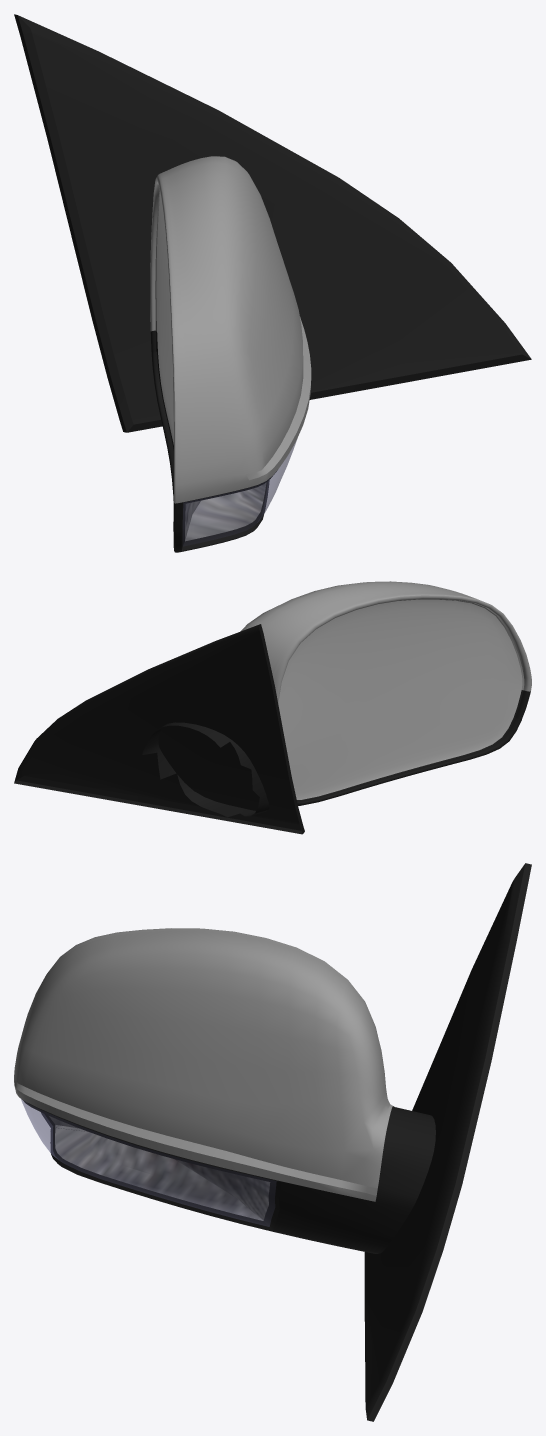
The picture shows the model from 3 angles, top to bottom: view 1: azimuth 30°, elevation 25°; view 2: azimuth 150°, elevation 25°; view 3: azimuth 270°, elevation 25°; orthographic projection. The views are drawn at different scales.
Visible parts, largest first — view 1: X6164_20_281I_R_X6164_20_281I_R_4_D, X6164_20_281I_R_3_DaS_X6164_20_281I_R, X6164_20_281I_R_X6164_20_281I_R_2_DTaSI, X6164_20_281I_R_X6164_20_281I_R_1_N, X6164_20_281I_R_X6164_20_281I_R_5_DTaSI, X6164_20_281I_R_3_DaS_X6164_20_281I_R_E; view 2: X6164_20_281I_R_X6164_20_281I_R_4_D, X6164_20_281I_R_X6164_20_281I_R_5_DTaSI, X6164_20_281I_R_3_DaS_X6164_20_281I_R; view 3: X6164_20_281I_R_3_DaS_X6164_20_281I_R, X6164_20_281I_R_X6164_20_281I_R_4_D, X6164_20_281I_R_X6164_20_281I_R_2_DTaSI, X6164_20_281I_R_X6164_20_281I_R_1_N, X6164_20_281I_R_3_DaS_X6164_20_281I_R_E.
Boxes of the visible parts, <box> form: X6164_20_281I_R_X6164_20_281I_R_4_D: <box>14,14,531,552</box>; X6164_20_281I_R_3_DaS_X6164_20_281I_R: <box>150,156,310,503</box>; X6164_20_281I_R_X6164_20_281I_R_2_DTaSI: <box>183,440,296,546</box>; X6164_20_281I_R_X6164_20_281I_R_1_N: <box>185,483,266,541</box>; X6164_20_281I_R_X6164_20_281I_R_5_DTaSI: <box>156,193,173,444</box>; X6164_20_281I_R_3_DaS_X6164_20_281I_R_E: <box>246,317,311,480</box>; X6164_20_281I_R_X6164_20_281I_R_4_D: <box>14,624,530,834</box>; X6164_20_281I_R_X6164_20_281I_R_5_DTaSI: <box>278,599,522,799</box>; X6164_20_281I_R_3_DaS_X6164_20_281I_R: <box>240,581,531,702</box>; X6164_20_281I_R_3_DaS_X6164_20_281I_R: <box>14,928,392,1201</box>; X6164_20_281I_R_X6164_20_281I_R_4_D: <box>22,863,531,1421</box>; X6164_20_281I_R_X6164_20_281I_R_2_DTaSI: <box>21,1099,276,1226</box>; X6164_20_281I_R_X6164_20_281I_R_1_N: <box>49,1116,270,1220</box>; X6164_20_281I_R_3_DaS_X6164_20_281I_R_E: <box>14,1075,377,1195</box>.
Size of the model in its own units: 37.62 by 25.8 by 33.35.
